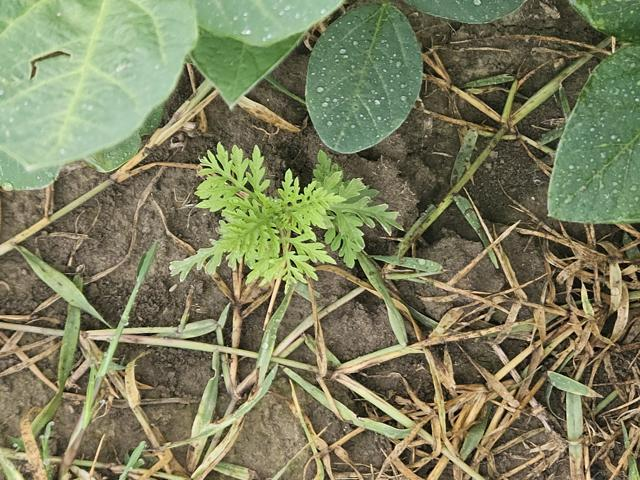bad weed: (417, 239, 633, 461), (171, 138, 392, 301)
